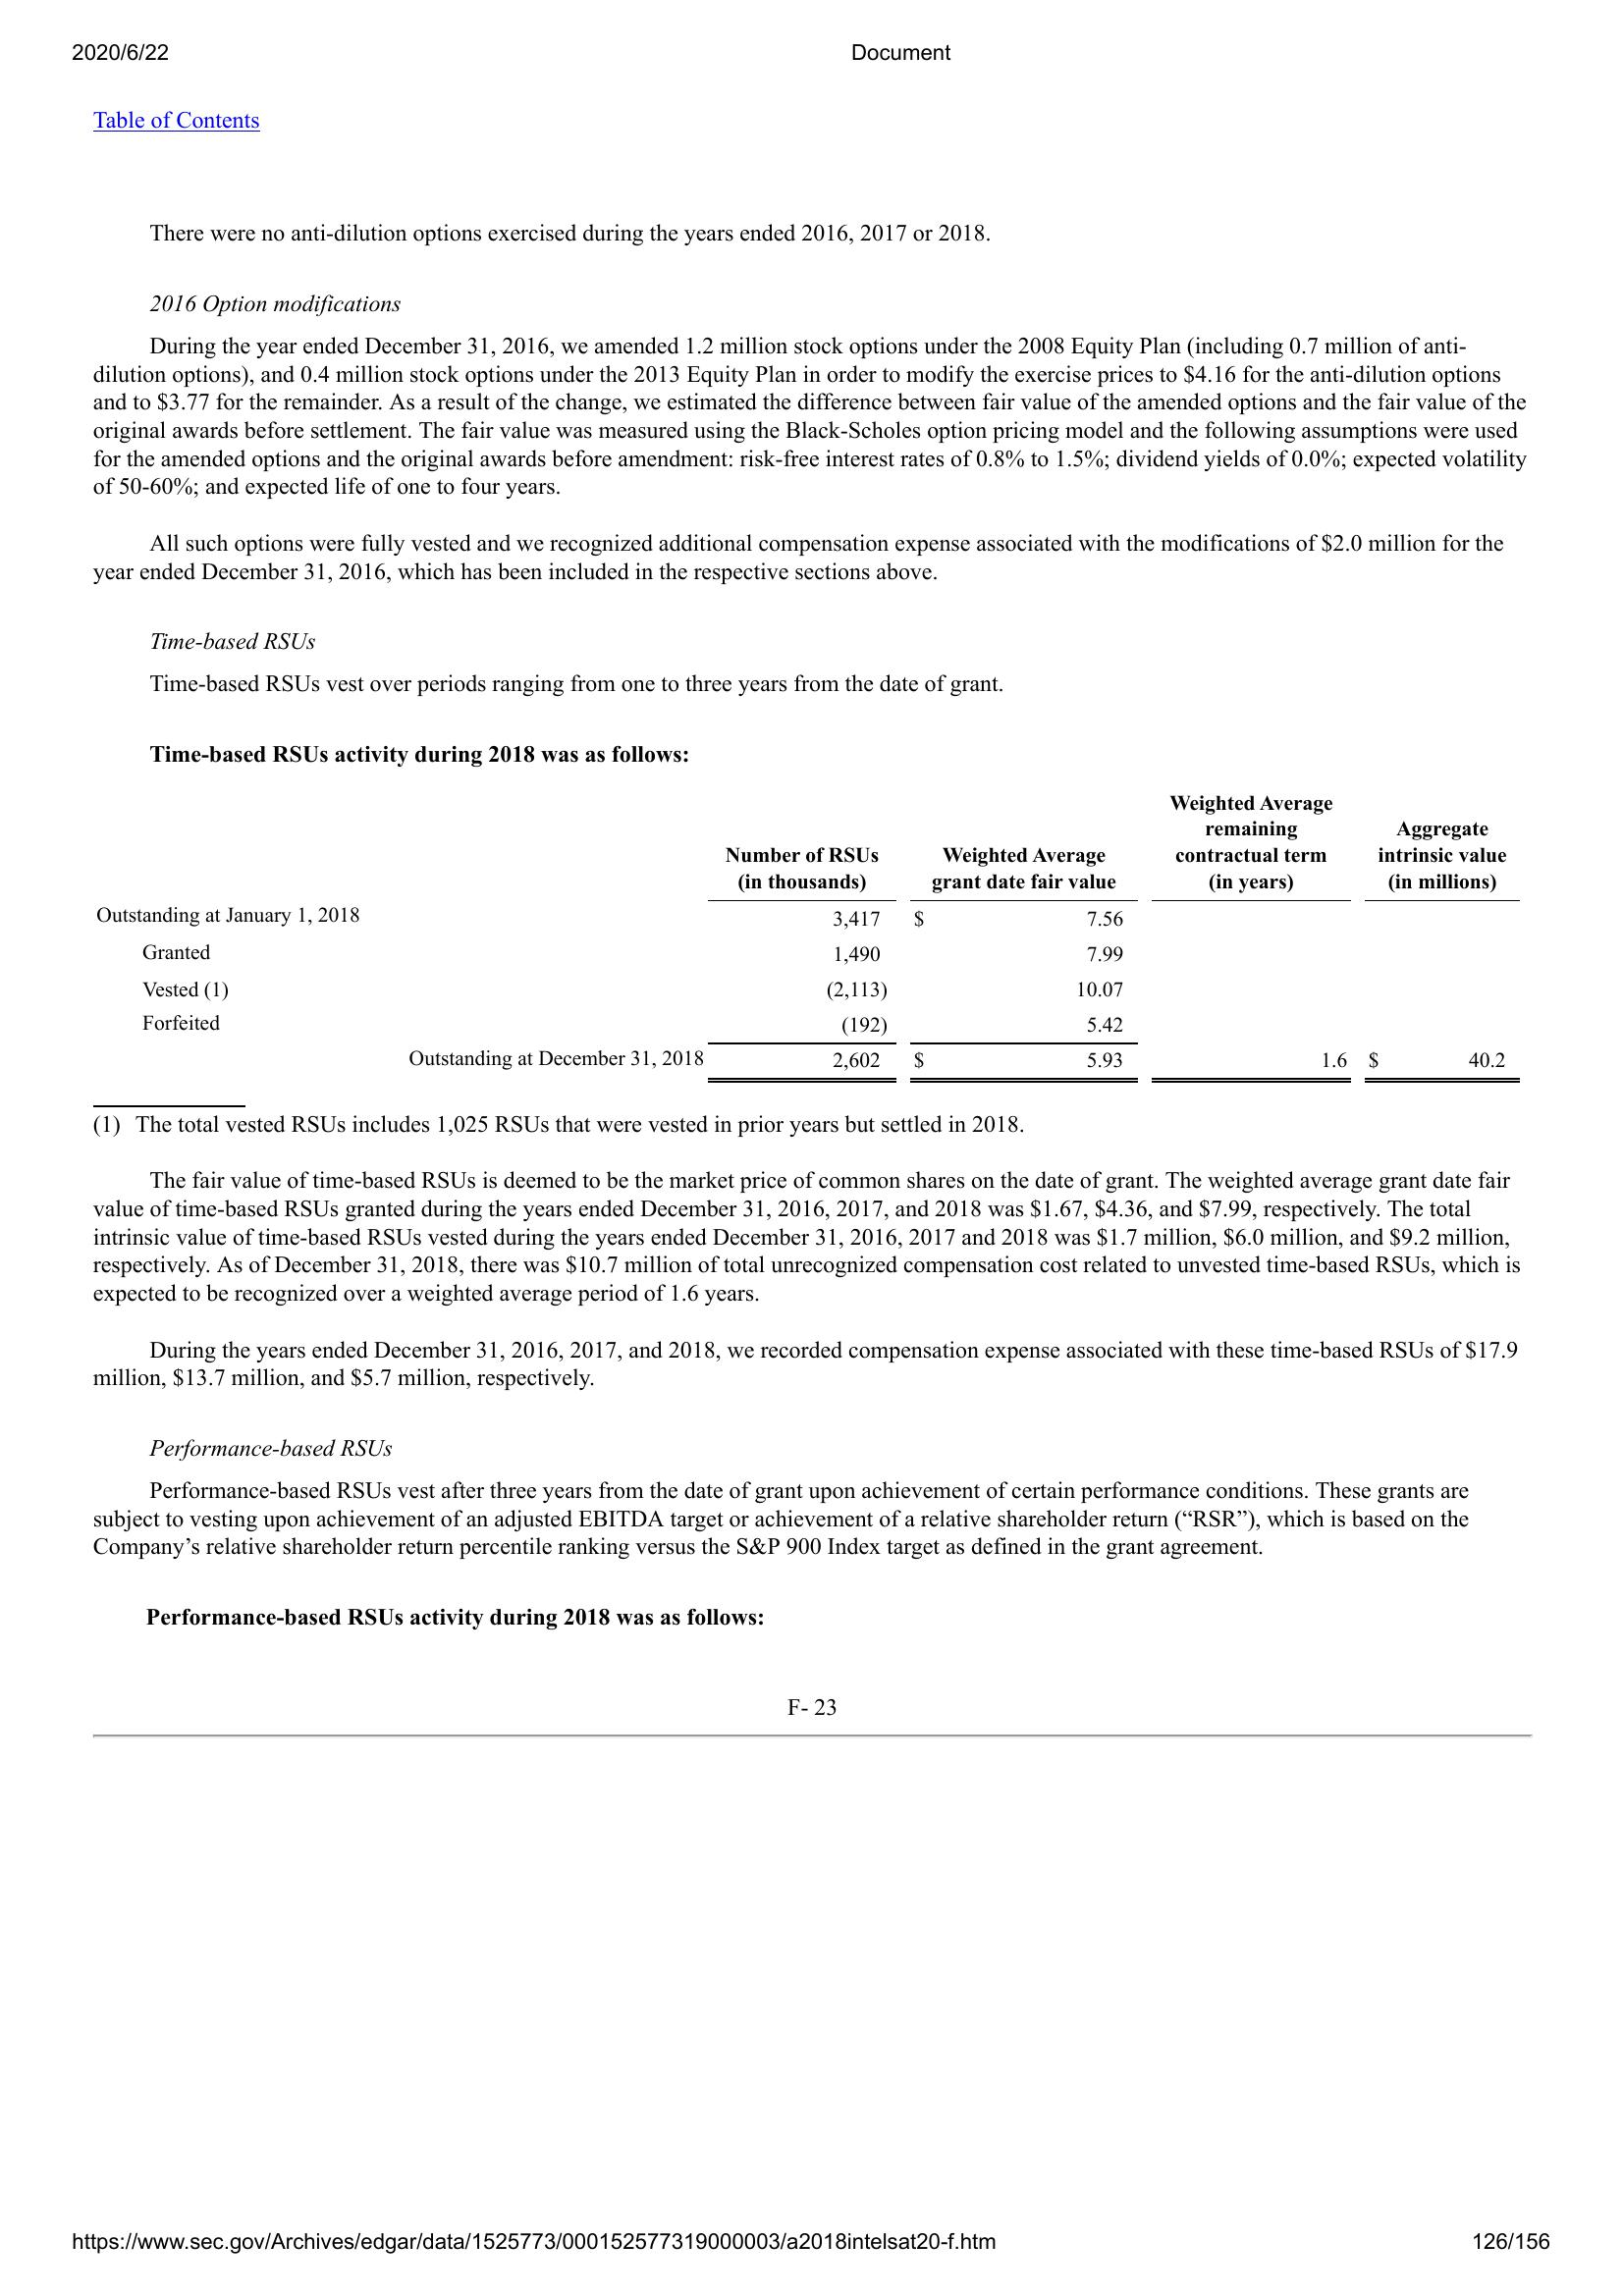table: (72, 788, 1525, 1085)
